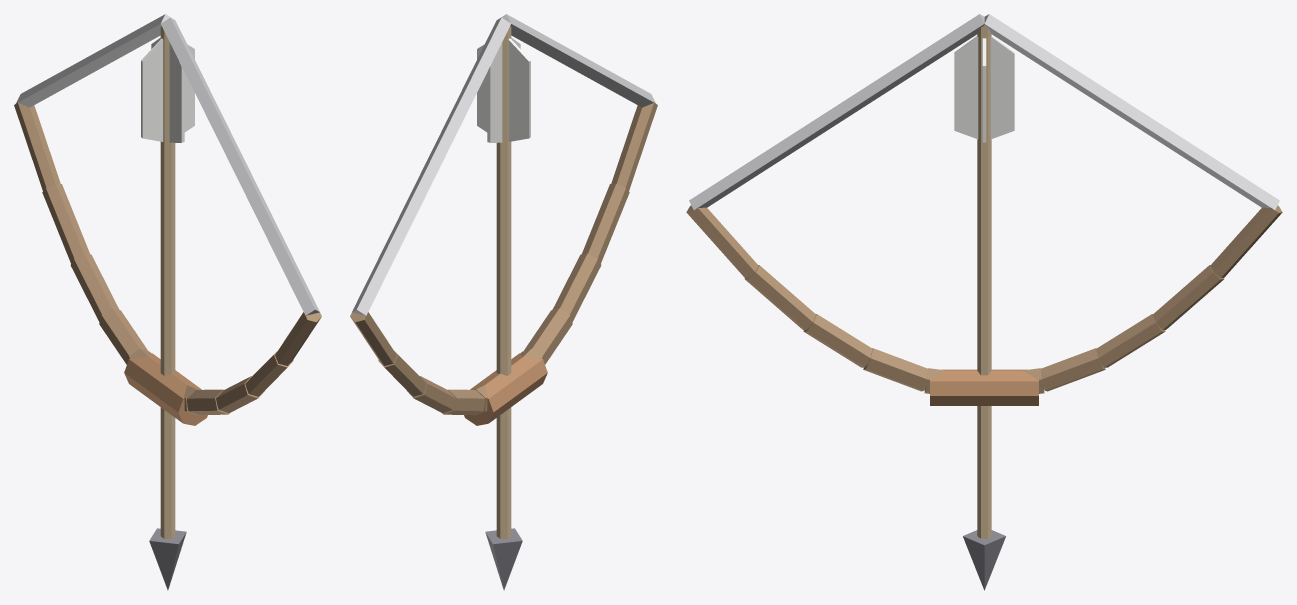
The model's file is bow_left_bow_aim_held.gltf.
3 views of the same model, side by side, from view 1: azimuth 30°, elevation 25°; view 2: azimuth 150°, elevation 25°; view 3: azimuth 270°, elevation 25° (orthographic).
Visible parts, largest first — view 1: archery_bow_left_bow_aim_held; view 2: archery_bow_left_bow_aim_held; view 3: archery_bow_left_bow_aim_held.
Boxes of the visible parts, x1,y1,x2,y2 form: archery_bow_left_bow_aim_held: (14, 14, 321, 590); archery_bow_left_bow_aim_held: (350, 14, 657, 590); archery_bow_left_bow_aim_held: (686, 14, 1282, 590).
Bounding box in the file's own units: 0.05 × 0.5257 × 0.4924.
